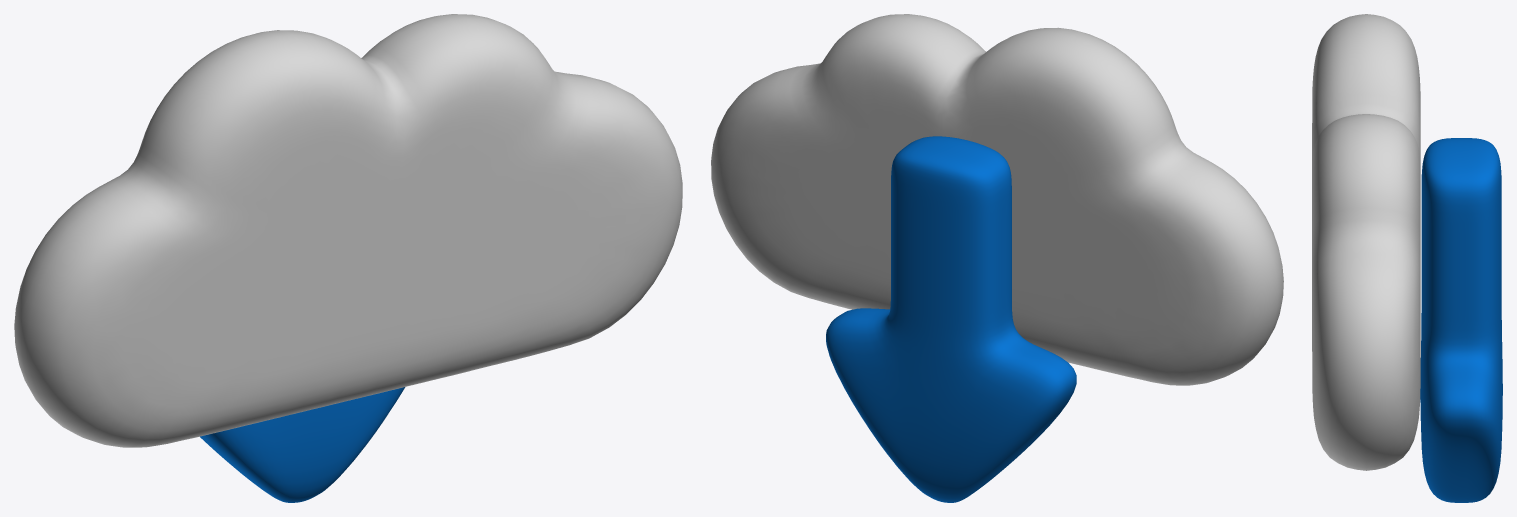
Rendered from new-download-animated-3d-icon-1218954115717.glb.
The picture shows the model from 3 angles, left to right: view 1: azimuth 30°, elevation 25°; view 2: azimuth 150°, elevation 25°; view 3: azimuth 270°, elevation 25°; orthographic projection. The views are drawn at different scales.
Visible parts, largest first — view 1: Cloud.001, Arrow; view 2: Cloud.001, Arrow; view 3: Cloud.001, Arrow.
Part boxes in pixels (x1=…): Cloud.001: x1=14, y1=14, x2=682, y2=447; Arrow: x1=200, y1=387, x2=405, y2=502; Cloud.001: x1=711, y1=14, x2=1283, y2=385; Arrow: x1=826, y1=136, x2=1076, y2=502; Cloud.001: x1=1312, y1=14, x2=1420, y2=470; Arrow: x1=1420, y1=138, x2=1502, y2=502.
Size of the model in its own units: 2.39 by 1.81 by 0.7067.
